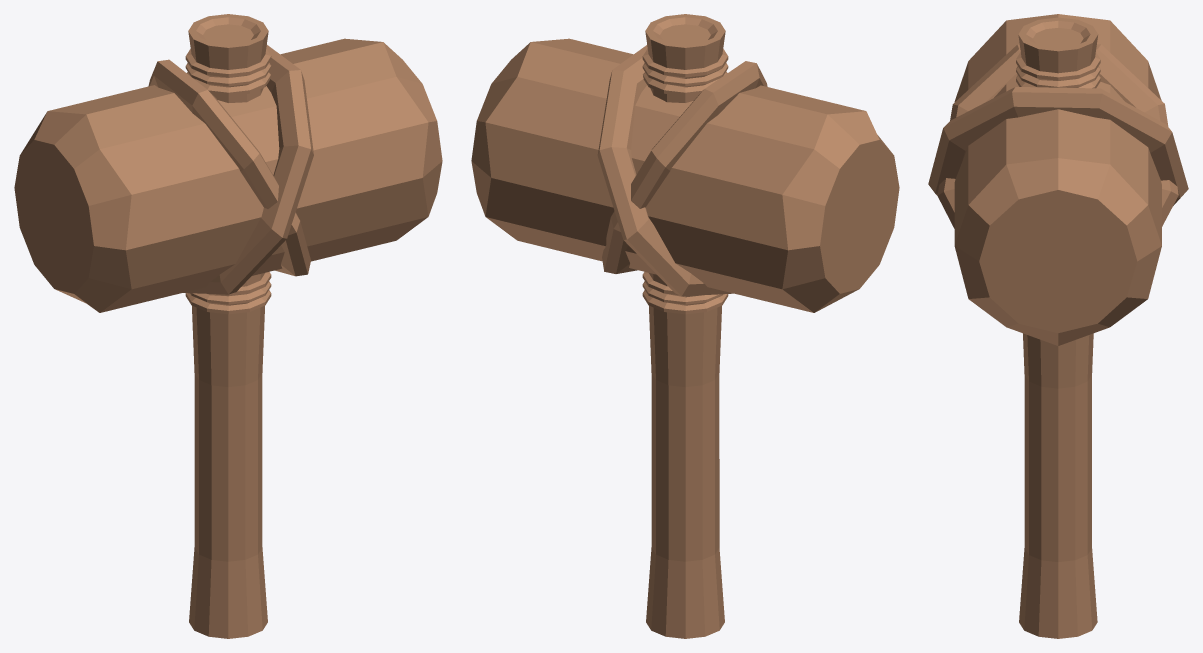
The model's file is Wooden Hammer.glb.
The picture shows the model from 3 angles, left to right: view 1: azimuth 30°, elevation 25°; view 2: azimuth 150°, elevation 25°; view 3: azimuth 270°, elevation 25°; orthographic projection.
Visible parts, largest first — view 1: Wooden Hammer; view 2: Wooden Hammer; view 3: Wooden Hammer.
Boxes of the visible parts, <box> form: Wooden Hammer: <box>14,14,442,638</box>; Wooden Hammer: <box>471,14,899,638</box>; Wooden Hammer: <box>928,14,1188,638</box>.
Size of the model in its own units: 45.61 by 73.92 by 29.69.
